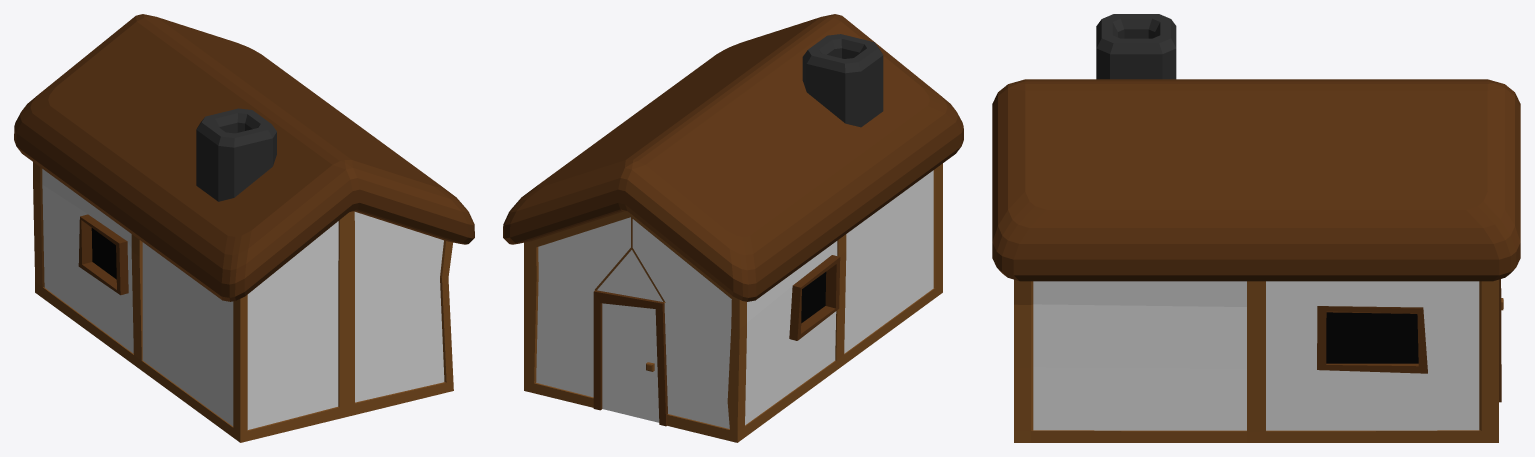
Rendered from VillageHouse1.fbx.
The picture shows the model from 3 angles, left to right: view 1: azimuth 30°, elevation 25°; view 2: azimuth 150°, elevation 25°; view 3: azimuth 270°, elevation 25°; orthographic projection. The views are drawn at different scales.
Visible parts, largest first — view 1: Cube; view 2: Cube; view 3: Cube.
Part boxes in pixels (x1,y1,x2,y2): Cube: (14, 14, 474, 442); Cube: (503, 14, 963, 442); Cube: (992, 14, 1520, 442).
Bounding box in the file's own units: 856 × 880 × 1320.
